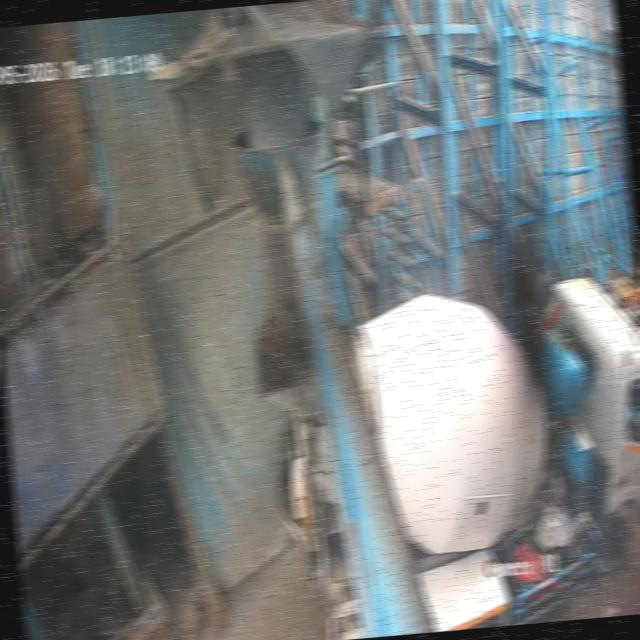cement_mixer_truck: (249, 271, 640, 640)
swing_chute: (231, 124, 334, 330)
